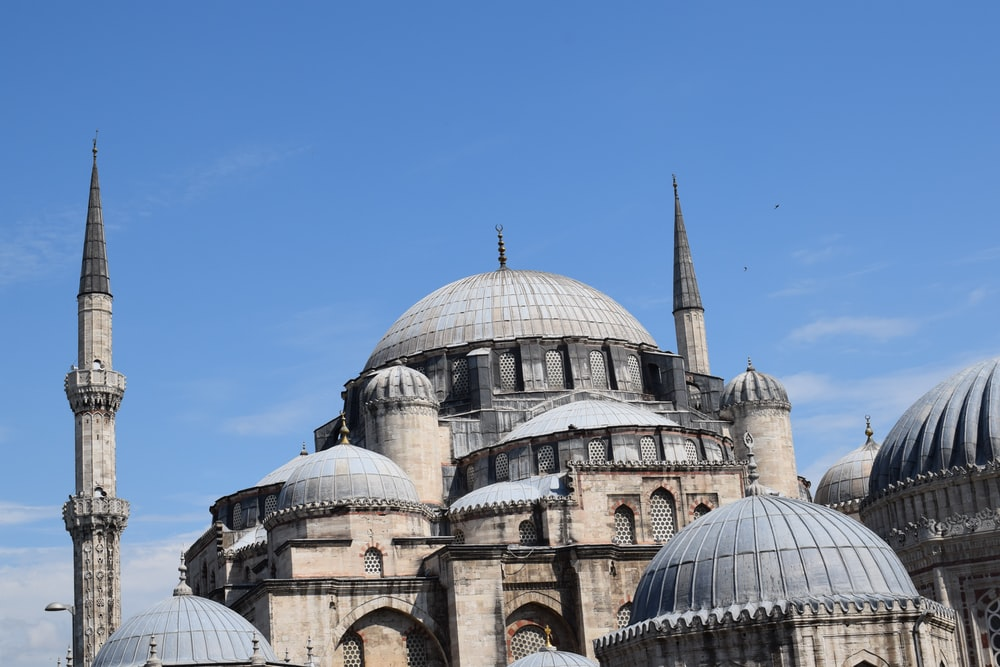Mosque: (57, 118, 979, 660)
